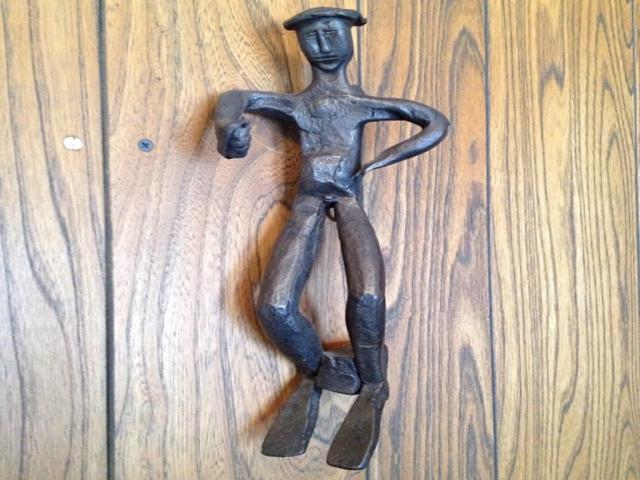Door-handle: (205, 3, 449, 471)
